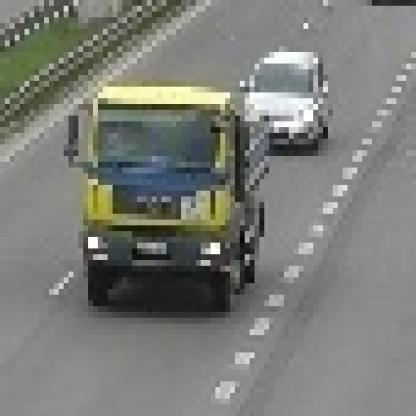truck: (60, 70, 270, 290)
